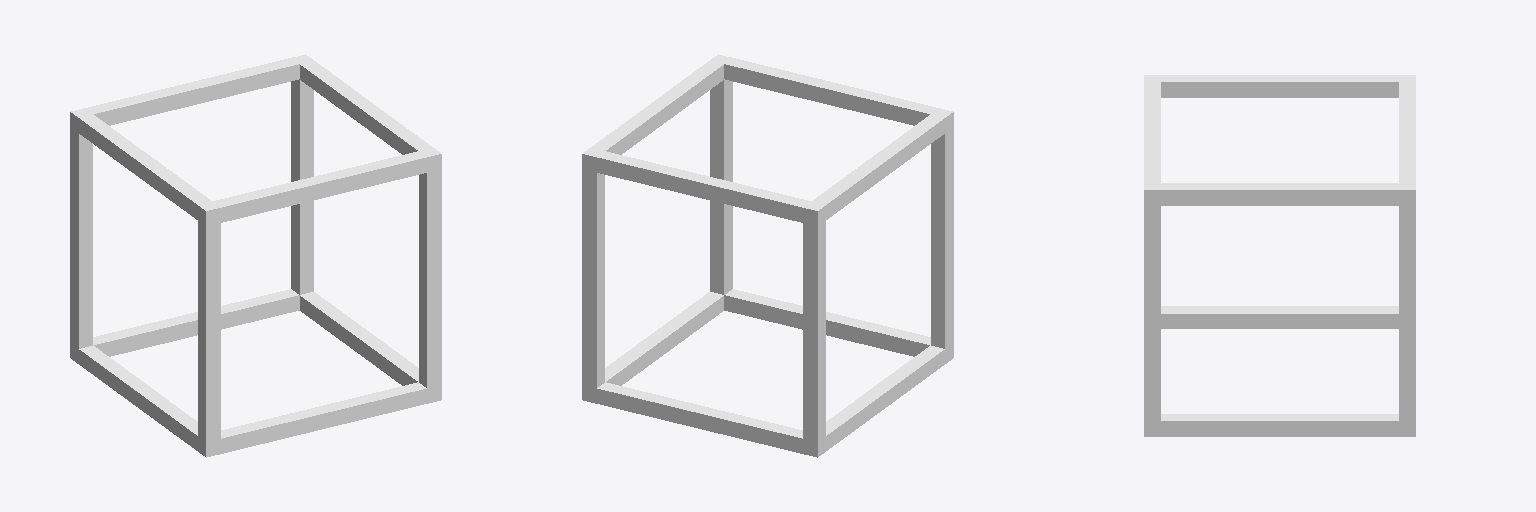
File: placebrick.obj
3 views of the same model, side by side, from view 1: azimuth 30°, elevation 25°; view 2: azimuth 150°, elevation 25°; view 3: azimuth 270°, elevation 25° (orthographic).
Parts seen in each view (by area): view 1: object 1; view 2: object 1; view 3: object 1.
Part boxes in pixels (left/top/right/bottom): object 1: left=70, top=54, right=441, bottom=457; object 1: left=582, top=54, right=953, bottom=457; object 1: left=1144, top=75, right=1415, bottom=436.
Bounding box in the file's own units: 1.6 × 1.6 × 1.6.